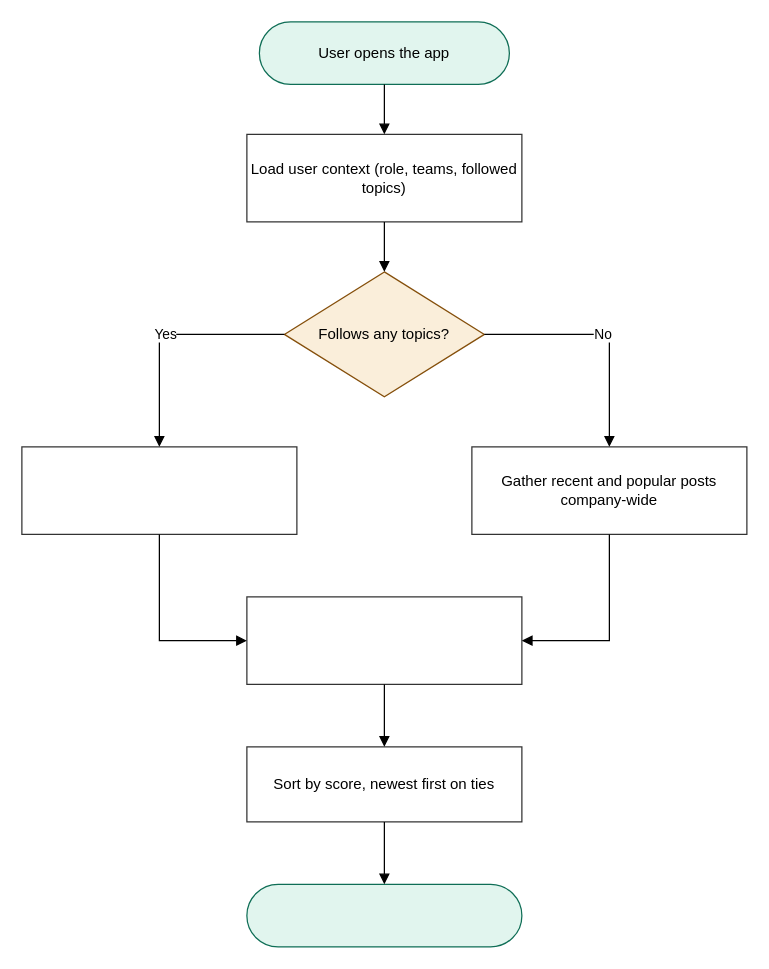
Some shapes in this 769 by 969 pixel diagram are drawn without their labels. The centre of each missing label's shape, as x and y in pixels:
"Display posts feed as home page" goes at point (384, 915).
"Gather posts from followed and team topics" goes at point (159, 490).
"Score each post (topic match, recency, activity)" goes at point (384, 640).
